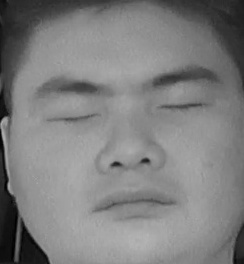blink: (42, 100, 103, 134), (156, 88, 212, 124)
mouth: (88, 180, 178, 228)
